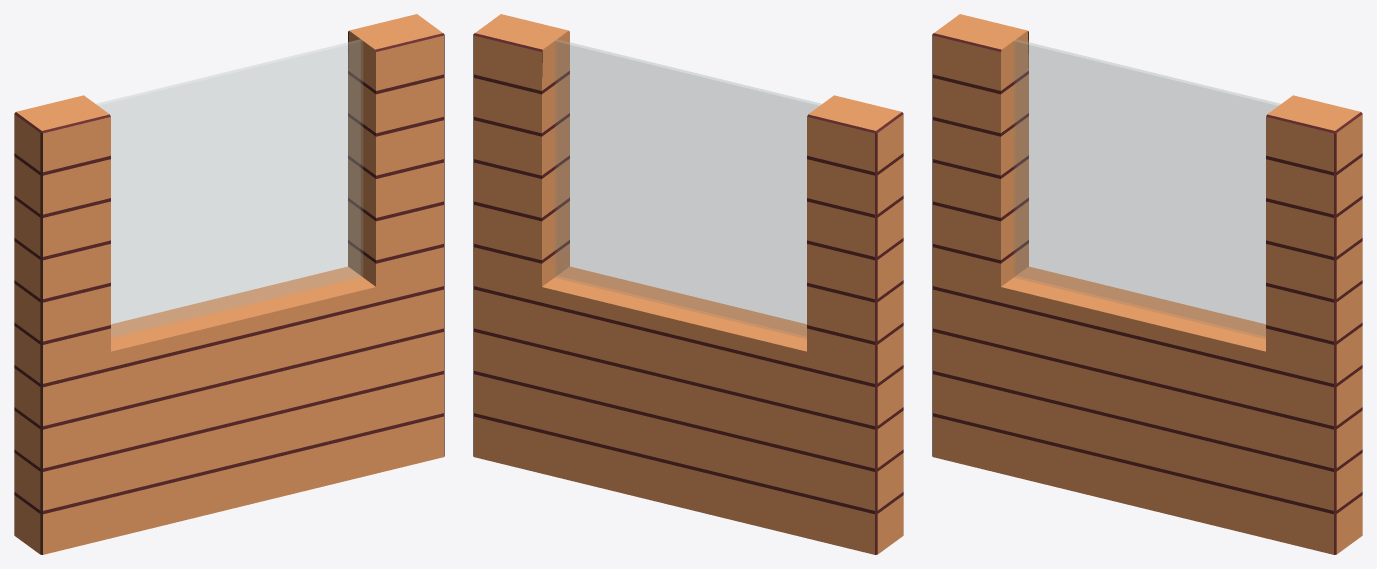
The model's file is 5_tuongkhungcuaso_2.fbx.
3 views of the same model, side by side, from view 1: azimuth 30°, elevation 25°; view 2: azimuth 150°, elevation 25°; view 3: azimuth 330°, elevation 25° (orthographic).
Parts seen in each view (by area): view 1: tuongcuaso_2_glass; view 2: tuongcuaso_2_glass; view 3: tuongcuaso_2_glass.
Part boxes in pixels (bbox=[...]): tuongcuaso_2_glass: bbox=[14, 14, 444, 554]; tuongcuaso_2_glass: bbox=[473, 14, 903, 554]; tuongcuaso_2_glass: bbox=[932, 14, 1362, 554].
Size of the model in its own units: 200 by 200 by 24.
